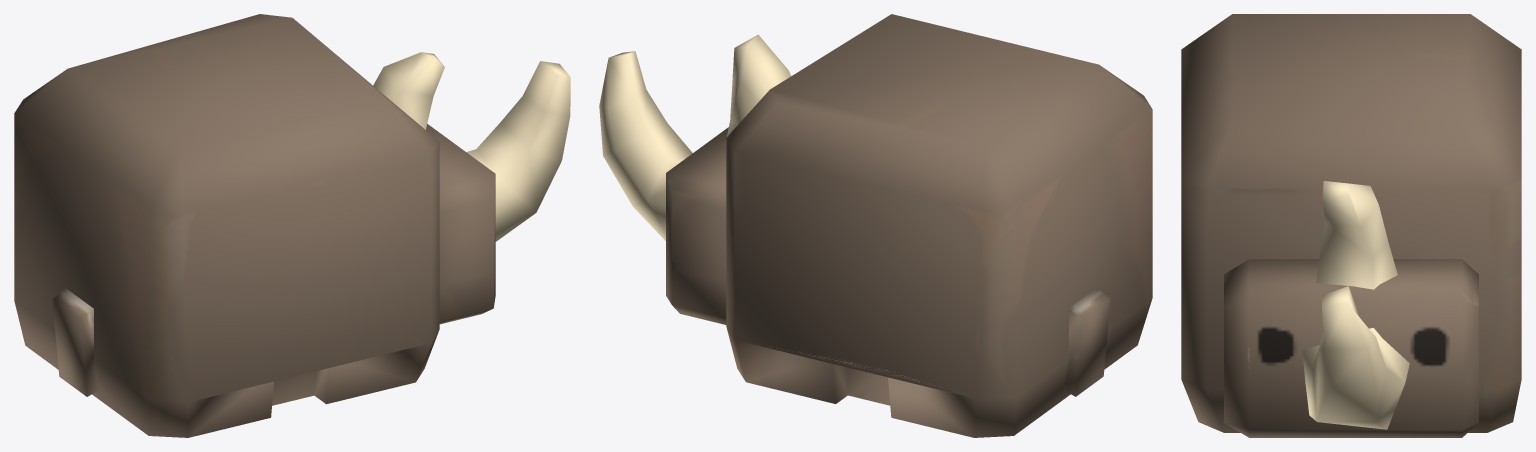
The model's file is rhino.glb.
3 renders of one model, left to right at view 1: azimuth 30°, elevation 25°; view 2: azimuth 150°, elevation 25°; view 3: azimuth 270°, elevation 25°, orthographic. The views are drawn at different scales.
Visible parts, largest first — view 1: 2.005, 1.005, 3.005, 4.005; view 2: 2.005, 1.005, 3.005, 4.005; view 3: 2.005, 3.005, 1.005.
Part boxes in pixels (x1,y1,x2,y2): 2.005: (14,14,439,437); 1.005: (373,52,570,241); 3.005: (426,124,495,324); 4.005: (52,288,98,396); 2.005: (726,14,1152,437); 1.005: (599,34,790,240); 3.005: (666,127,728,324); 4.005: (1063,288,1110,396); 2.005: (1181,14,1521,432); 3.005: (1224,259,1478,437); 1.005: (1302,181,1409,429).
Size of the model in its own units: 0.1391 by 0.0744 by 0.0783.
1 material, 1 textured.
